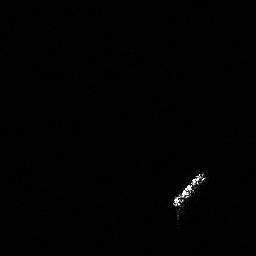ship: (165, 166, 215, 213)
